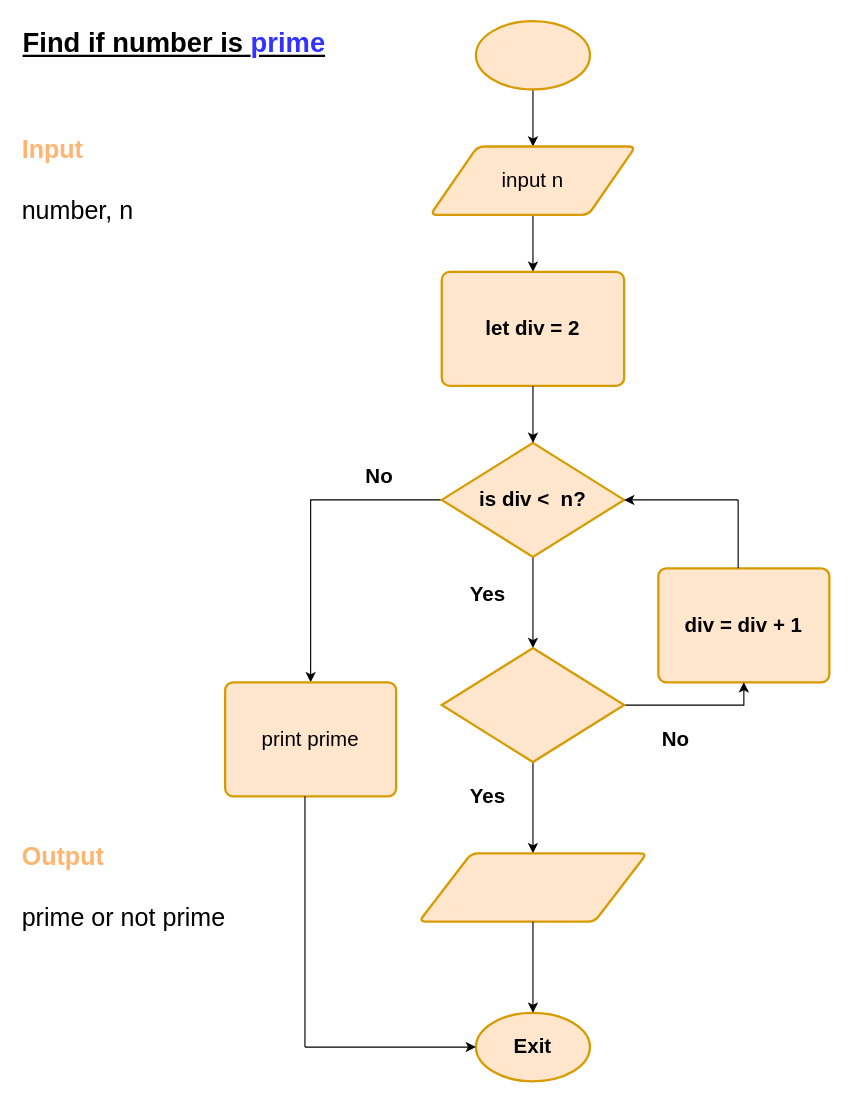
Some shapes in this 849 by 1101 pixel diagram are drawn without their labels. Here are the shapes that lost their labels. From the top down, the box of each, then its label:
(474, 19, 591, 90): Start
(440, 646, 625, 763): is n%div == 0?
(417, 852, 648, 922): print NOT prime
